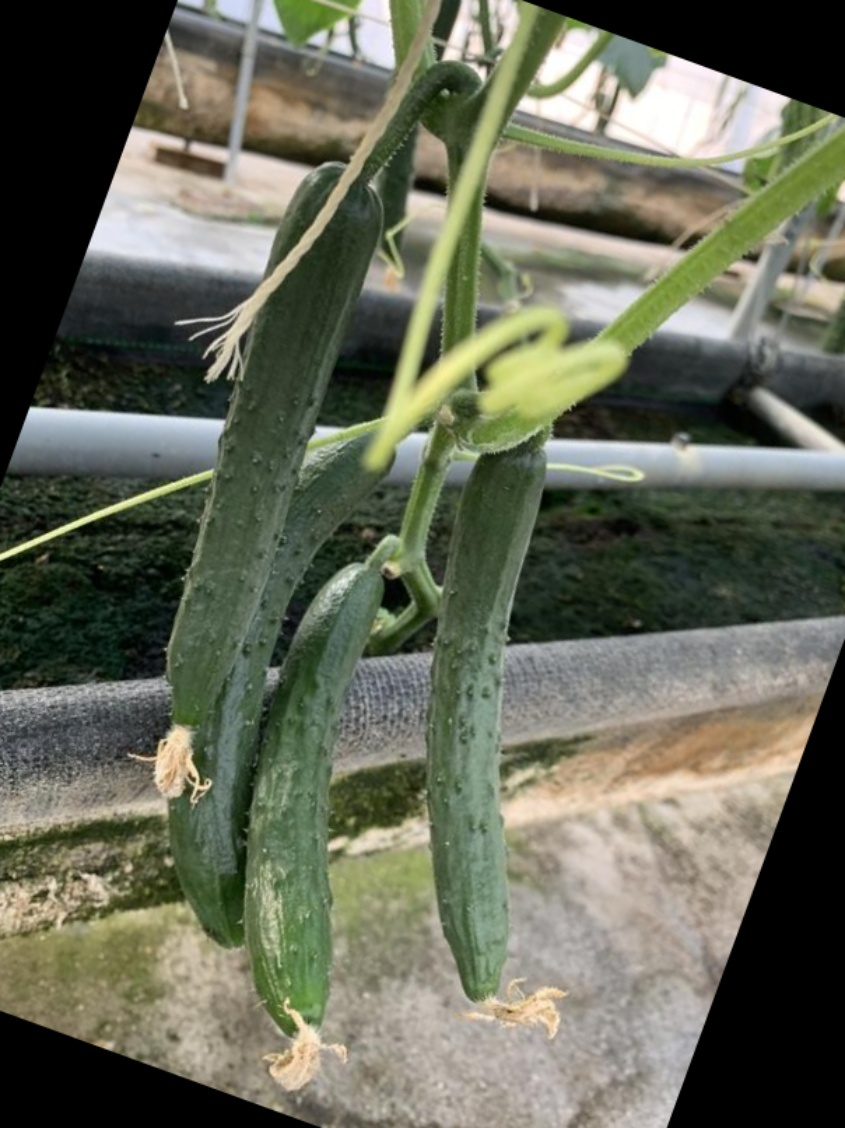mature: (232, 556, 389, 1037)
